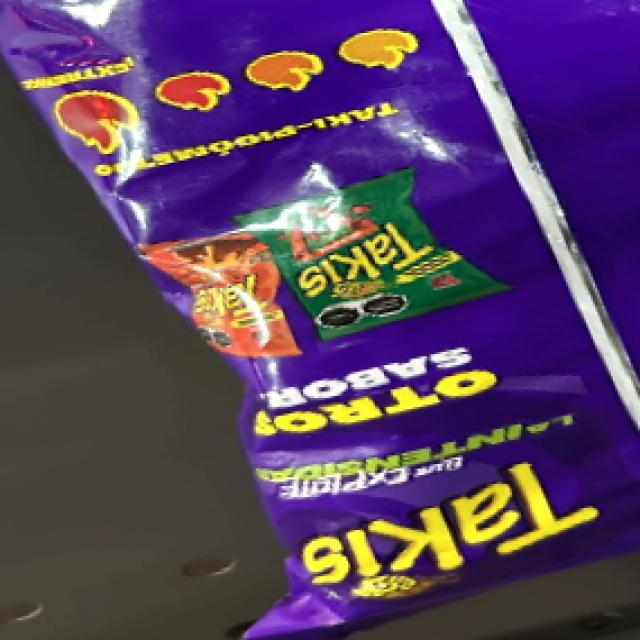productoAtras: (143, 1, 622, 592)
